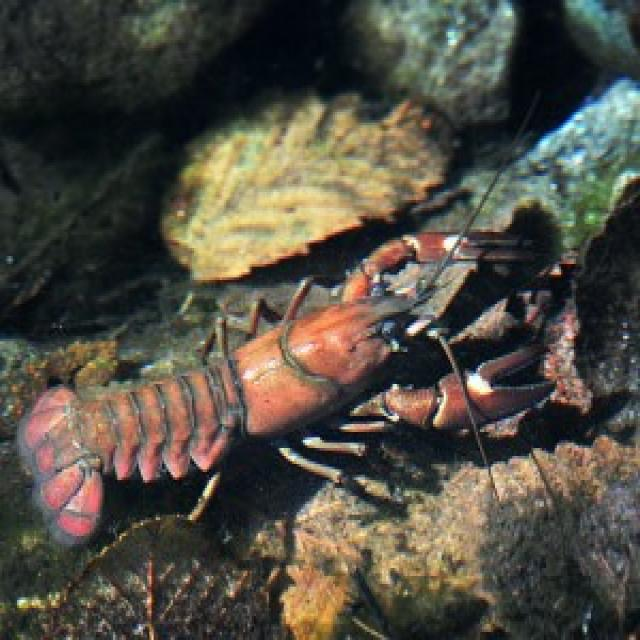lobsters: (0, 200, 637, 572)
